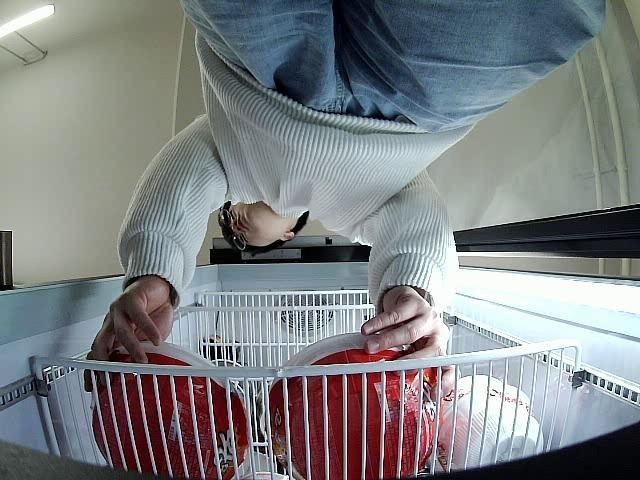10_wangTtukkeong: (268, 333, 444, 480), (92, 339, 251, 480)
